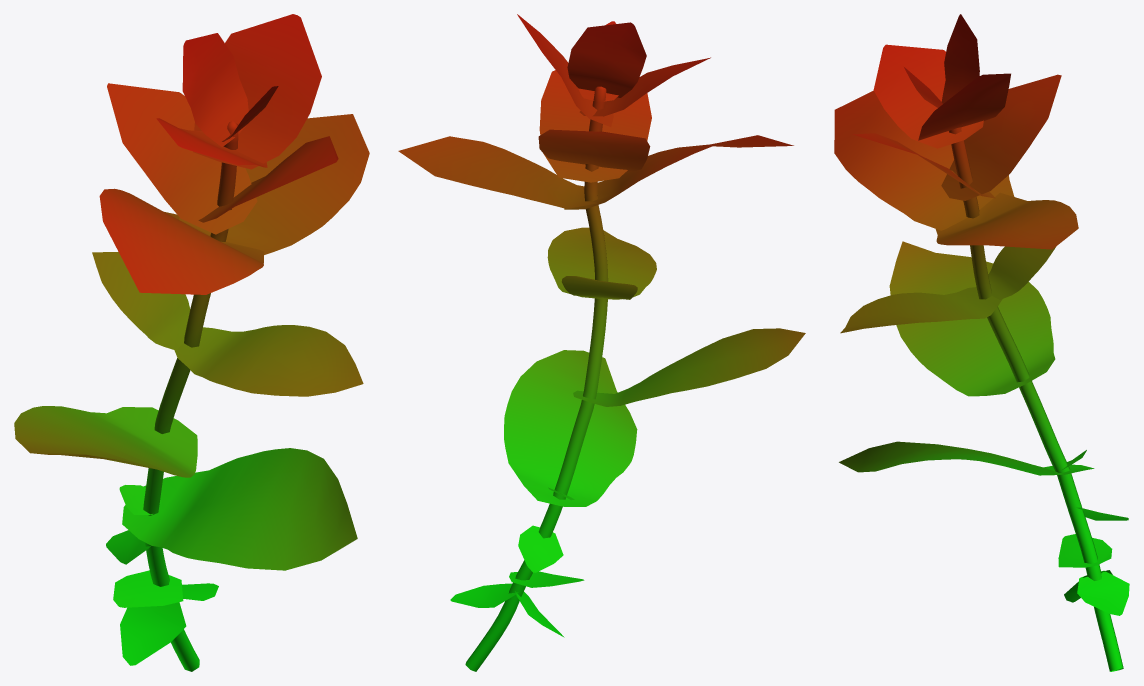
Rendered from Rubber Bush_LOD1_Var8_xffhfekia.fbx.
3 renders of one model, left to right at view 1: azimuth 30°, elevation 25°; view 2: azimuth 150°, elevation 25°; view 3: azimuth 270°, elevation 25°, orthographic. The views are drawn at different scales.
Visible parts, largest first — view 1: _9mi0_Var8_LOD1; view 2: _9mi0_Var8_LOD1; view 3: _9mi0_Var8_LOD1.
Boxes of the visible parts, bbox=[...] form: _9mi0_Var8_LOD1: bbox=[14, 14, 369, 671]; _9mi0_Var8_LOD1: bbox=[398, 14, 805, 671]; _9mi0_Var8_LOD1: bbox=[834, 14, 1129, 671].
Size of the model in its own units: 24.58 by 43.01 by 18.6.
